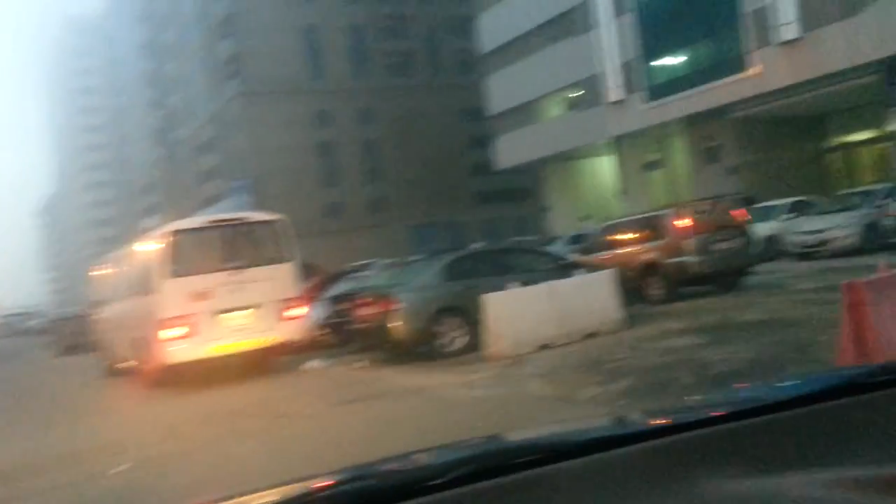bus: (77, 205, 314, 376), (312, 244, 531, 348)
car: (343, 242, 634, 358), (553, 201, 756, 304), (771, 180, 895, 259), (710, 191, 844, 258)
